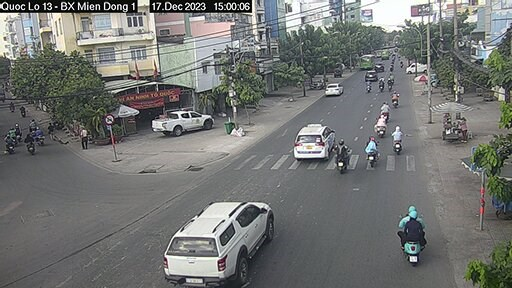car: (160, 172, 277, 273), (154, 107, 212, 147), (293, 113, 335, 161), (326, 77, 351, 102)
motorbike: (401, 201, 432, 256), (363, 135, 385, 174), (329, 135, 350, 173), (392, 122, 403, 158)
